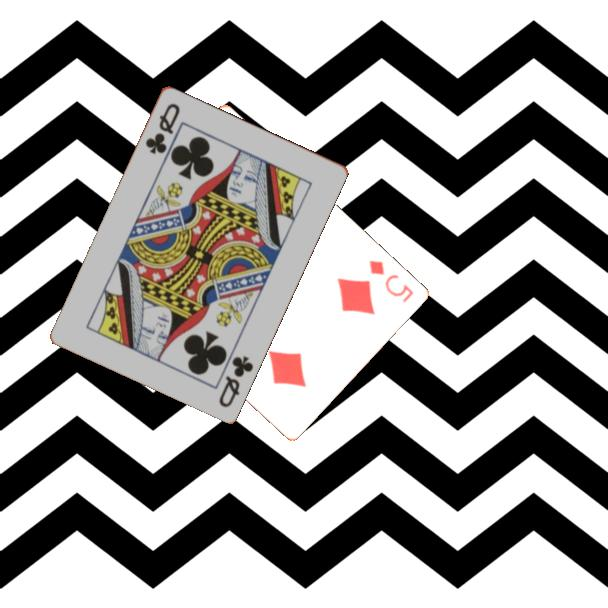c12: (215, 351, 256, 410), (142, 99, 183, 157)
d05: (365, 256, 416, 306)
